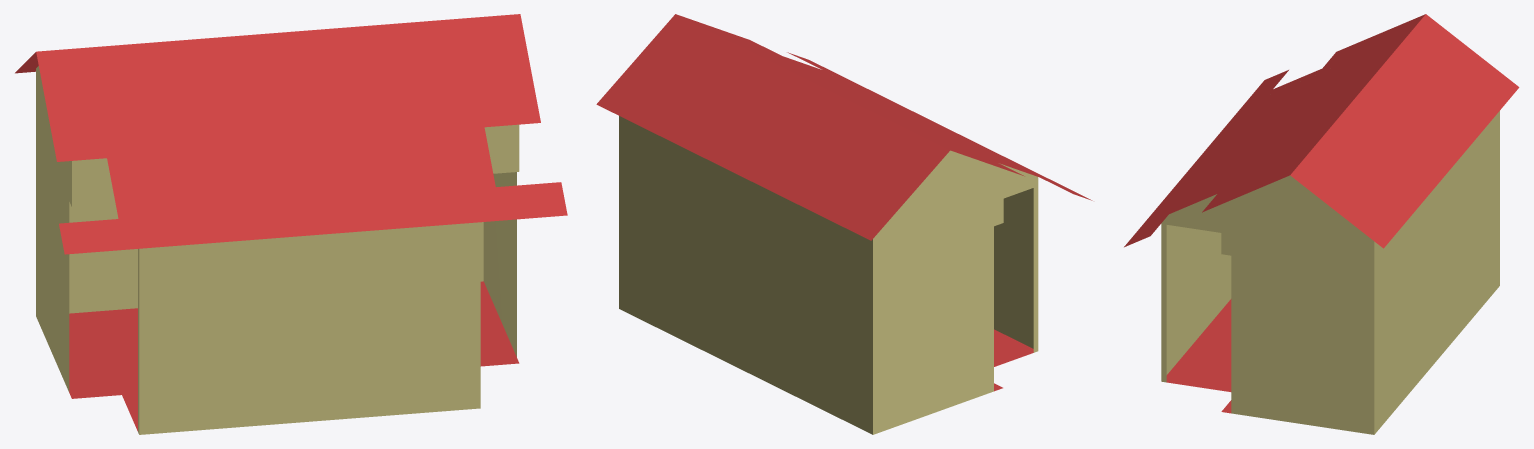
The picture shows the model from 3 angles, left to right: view 1: azimuth 30°, elevation 25°; view 2: azimuth 150°, elevation 25°; view 3: azimuth 270°, elevation 25°; orthographic projection. The views are drawn at different scales.
Bounding box in the file's own units: 23.61 × 19.43 × 13.74.
